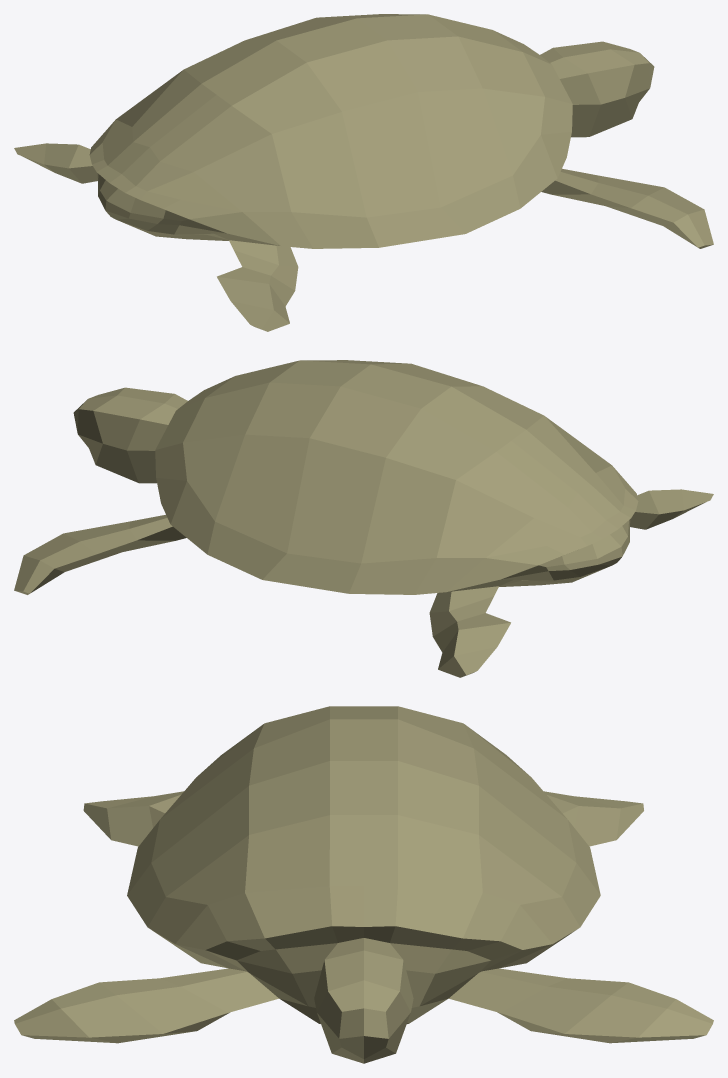
Rendered from Low_poly_turtle.glb.
The picture shows the model from 3 angles, top to bottom: view 1: azimuth 30°, elevation 25°; view 2: azimuth 150°, elevation 25°; view 3: azimuth 270°, elevation 25°; orthographic projection. The views are drawn at different scales.
Parts seen in each view (by area): view 1: unnamed (×5); view 2: unnamed (×5); view 3: unnamed (×6).
Boxes of the visible parts, bbox=[...] form: unnamed (×5): bbox=[14, 14, 713, 331]; unnamed (×5): bbox=[14, 360, 713, 677]; unnamed (×6): bbox=[14, 706, 713, 1063].
Bounding box in the file's own units: 4.02 × 1.23 × 3.94.
